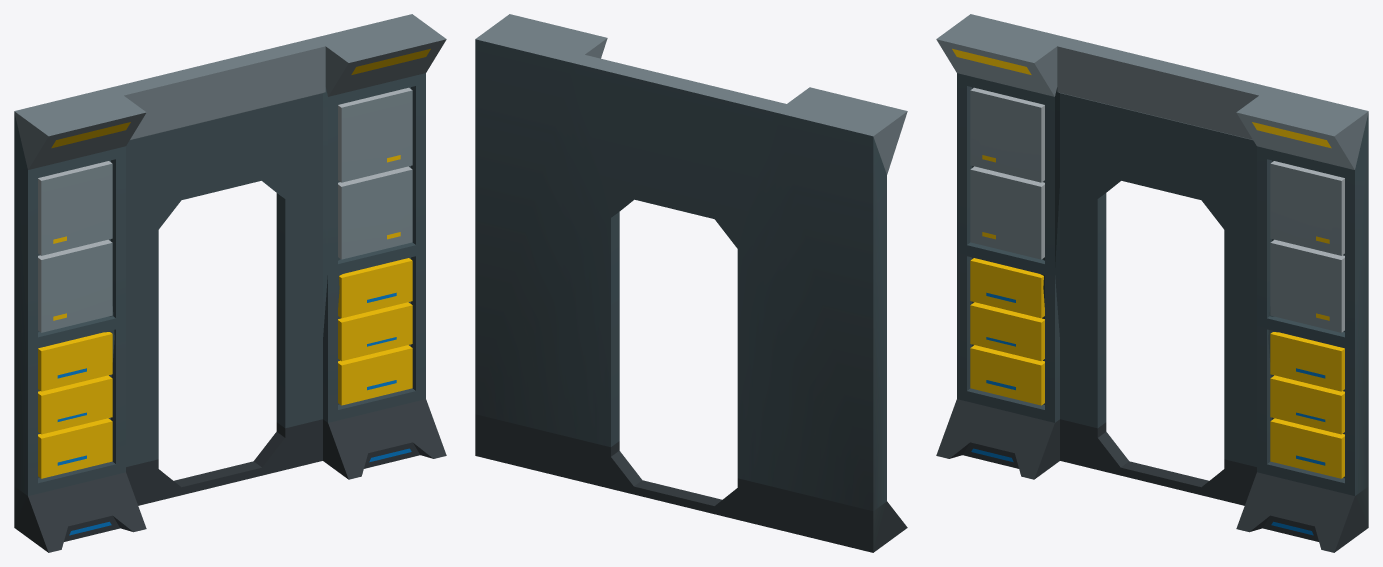
File: Wall_type_C_050.fbx
3 renders of one model, left to right at view 1: azimuth 30°, elevation 25°; view 2: azimuth 150°, elevation 25°; view 3: azimuth 330°, elevation 25°, orthographic.
Visible parts, largest first — view 1: Wall_type_C_050; view 2: Wall_type_C_050; view 3: Wall_type_C_050.
Boxes of the visible parts, box(x1,y1,x2,y2) form: Wall_type_C_050: box(14, 14, 446, 552); Wall_type_C_050: box(475, 14, 907, 552); Wall_type_C_050: box(936, 14, 1368, 552).
Size of the model in its own units: 400 by 60 by 400.
